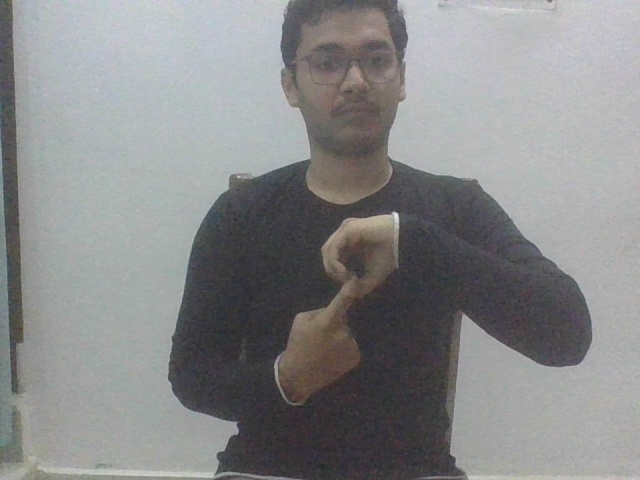Q: (273, 211, 399, 402)
